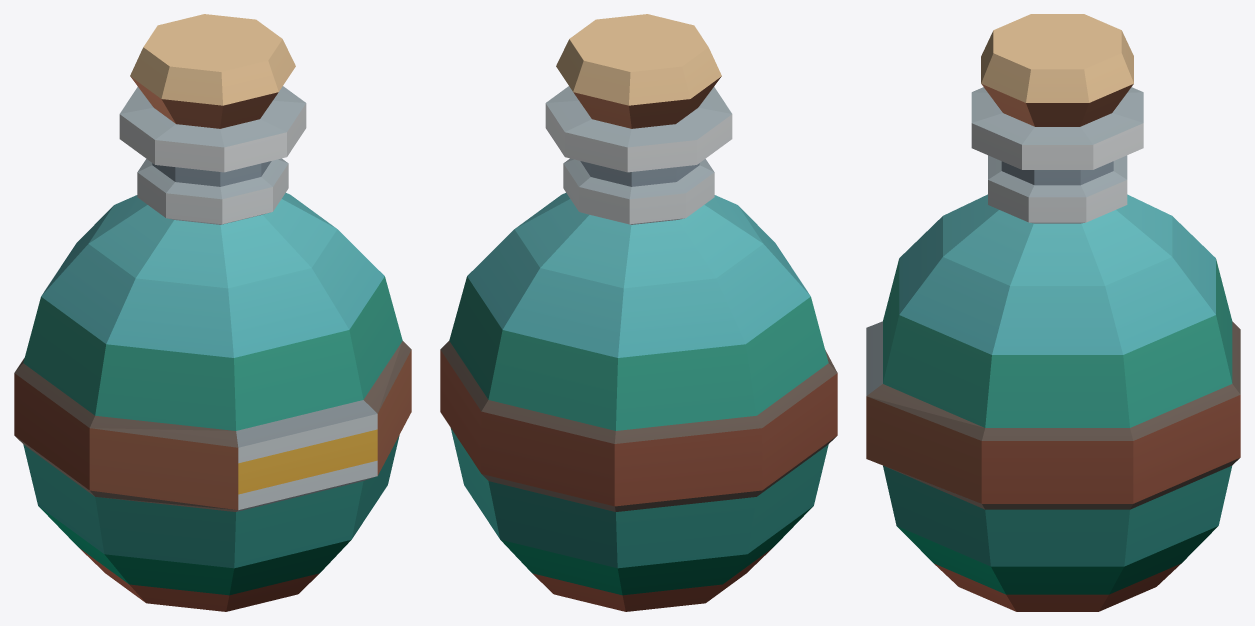
The model's file is source.glb.
3 views of the same model, side by side, from view 1: azimuth 30°, elevation 25°; view 2: azimuth 150°, elevation 25°; view 3: azimuth 270°, elevation 25° (orthographic).
Visible parts, largest first — view 1: model; view 2: model; view 3: model.
Part boxes in pixels (x1,y1,x2,y2): model: [14, 14, 411, 611]; model: [440, 14, 837, 611]; model: [866, 14, 1240, 611].
Bounding box in the file's own units: 0.72 × 1.12 × 0.72.
1 material, 1 textured.
